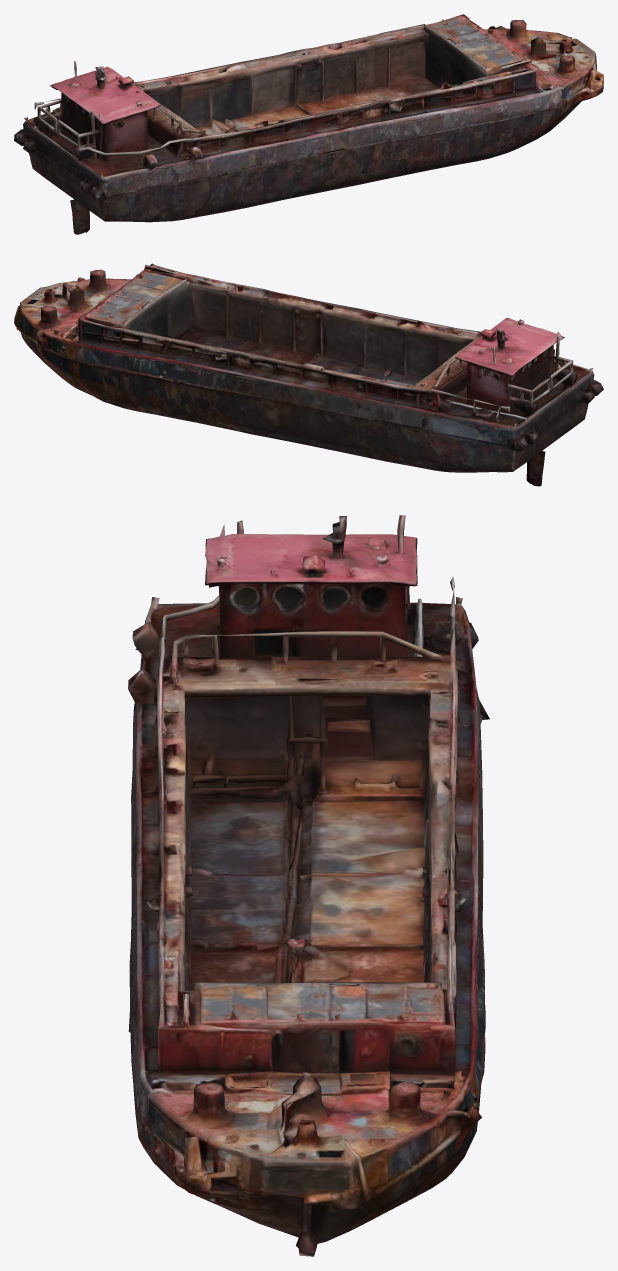
The model's file is pt_barge.glb.
The picture shows the model from 3 angles, top to bottom: view 1: azimuth 30°, elevation 25°; view 2: azimuth 150°, elevation 25°; view 3: azimuth 270°, elevation 25°; orthographic projection. The views are drawn at different scales.
Visible parts, largest first — view 1: tripo_node_d38f52e6-3442-4598-9faa-a9fca12aa588; view 2: tripo_node_d38f52e6-3442-4598-9faa-a9fca12aa588; view 3: tripo_node_d38f52e6-3442-4598-9faa-a9fca12aa588.
Boxes of the visible parts, x1,y1,x2,y2 form: tripo_node_d38f52e6-3442-4598-9faa-a9fca12aa588: (14,14,603,234); tripo_node_d38f52e6-3442-4598-9faa-a9fca12aa588: (14,263,603,486); tripo_node_d38f52e6-3442-4598-9faa-a9fca12aa588: (128,515,489,1256).
Bounding box in the file's own units: 0.9821 × 0.2695 × 0.2863.
Materials: 1 (1 with a texture image).
